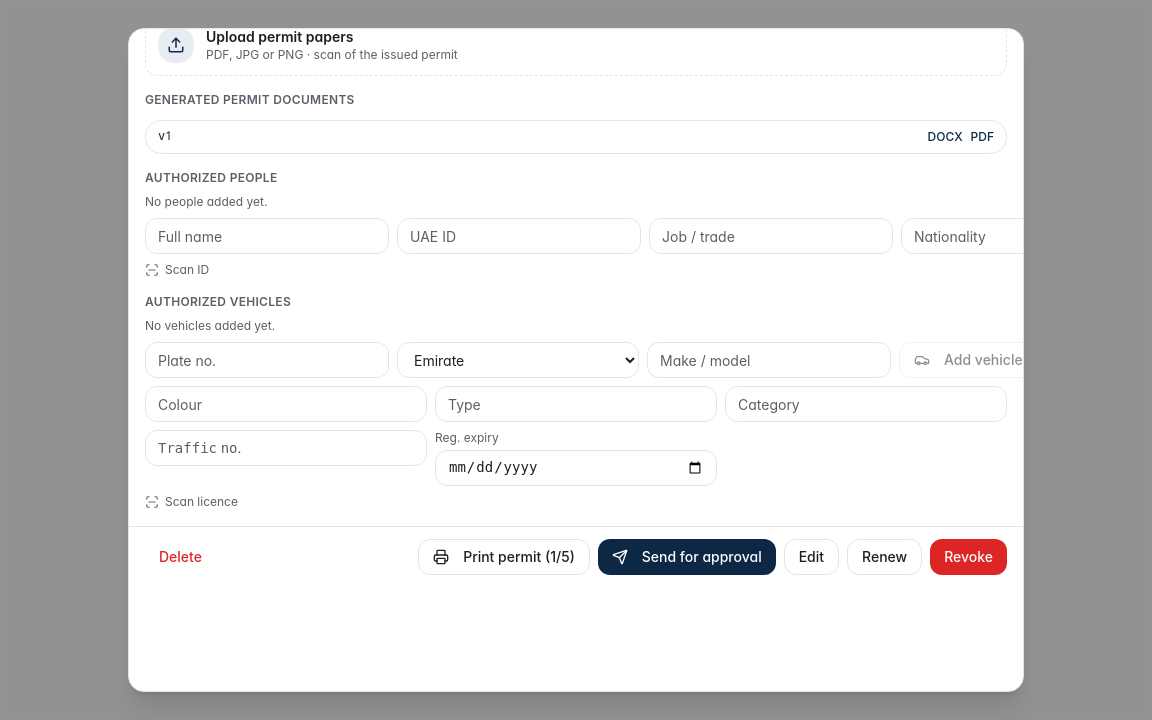
Test: PermitDetailDialog › refetches generated history after a structured permit mutation
The image size is (1152, 720).
(page scrolled)
Expected: the text "v1" is shown, [158, 129, 172, 145]
In the field with placeholder "Plate no.": {"x": 267, "y": 360} [145, 342, 389, 378], type "A 5"
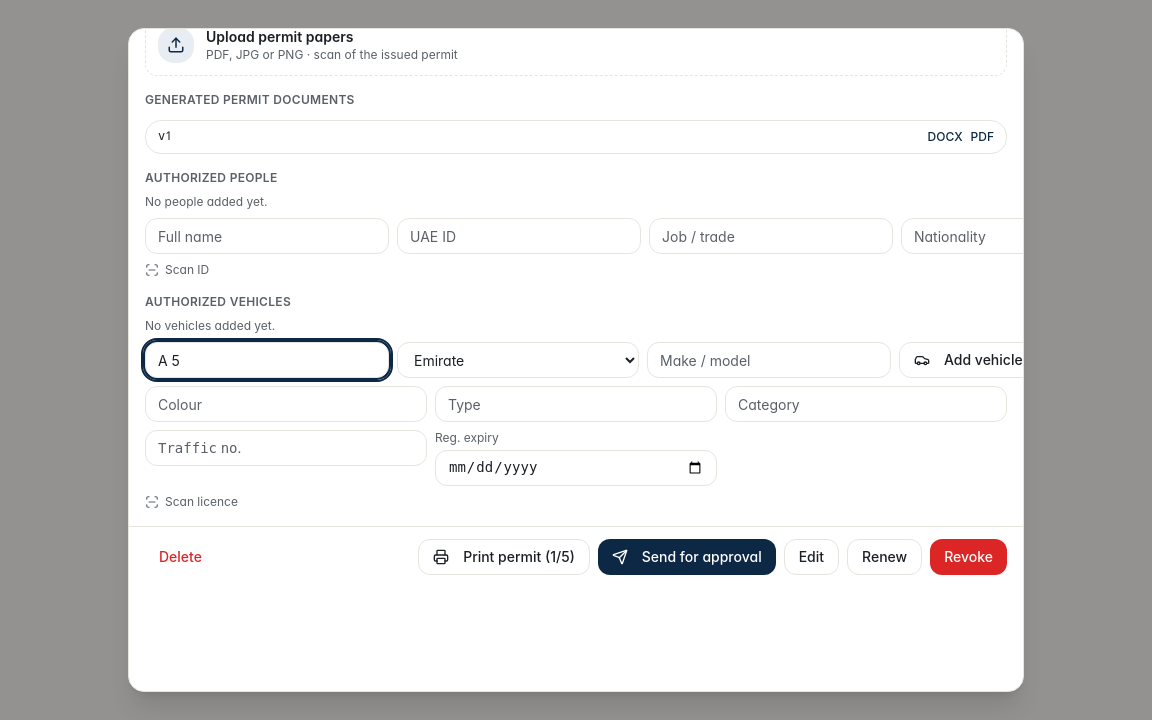
Click the button "Add vehicle": {"x": 968, "y": 360} [899, 342, 1038, 378]
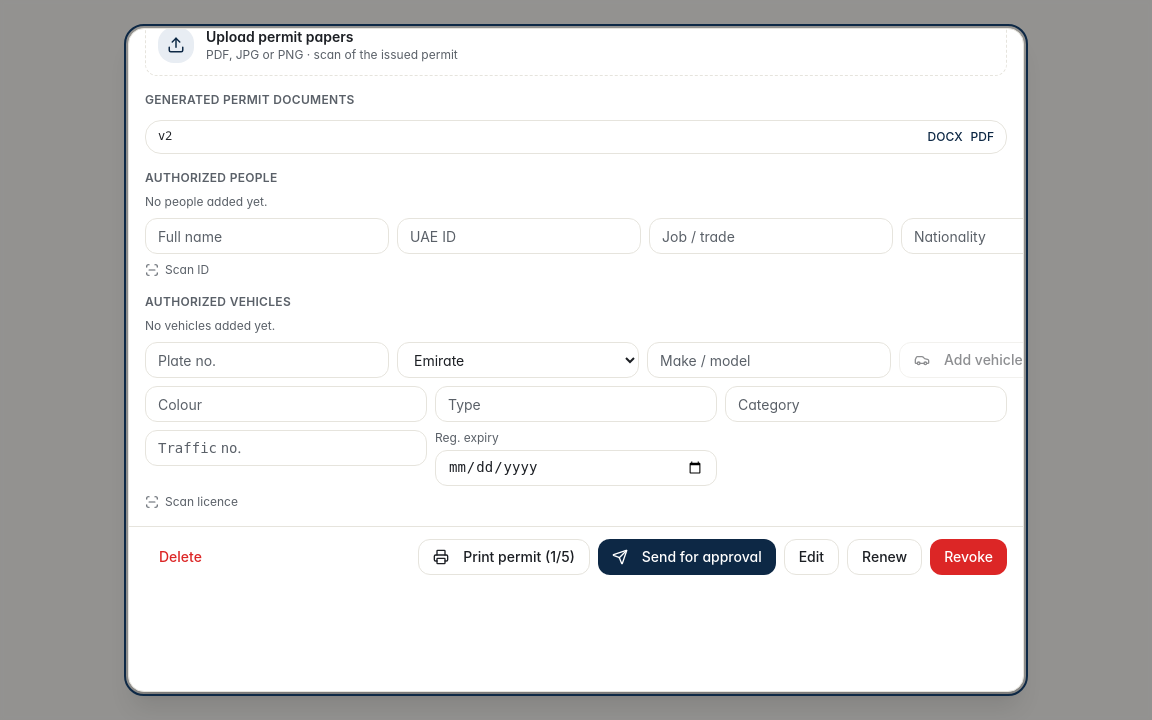
Now the text "v2" is shown, box [158, 129, 172, 145]
